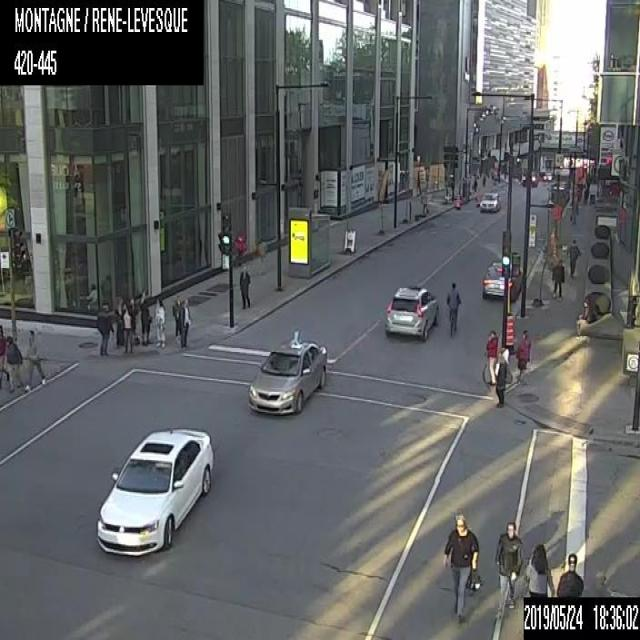construction: (503, 313, 512, 351), (454, 191, 461, 209)
cyclist: (445, 281, 460, 336)
pedestrian: (441, 512, 481, 619), (494, 520, 522, 608), (526, 541, 554, 596), (24, 328, 46, 391), (556, 550, 584, 598), (4, 332, 22, 392), (95, 301, 114, 354), (516, 330, 531, 386), (494, 348, 508, 406), (484, 328, 498, 383), (153, 295, 166, 348), (138, 298, 152, 345), (178, 297, 189, 349), (121, 307, 133, 354), (238, 266, 249, 310), (171, 293, 181, 339), (552, 259, 564, 297), (567, 239, 580, 273)
vehicle: (92, 425, 214, 555), (246, 334, 328, 414), (384, 284, 438, 337), (481, 254, 522, 300), (479, 190, 501, 210), (522, 168, 538, 186), (552, 184, 568, 202)
